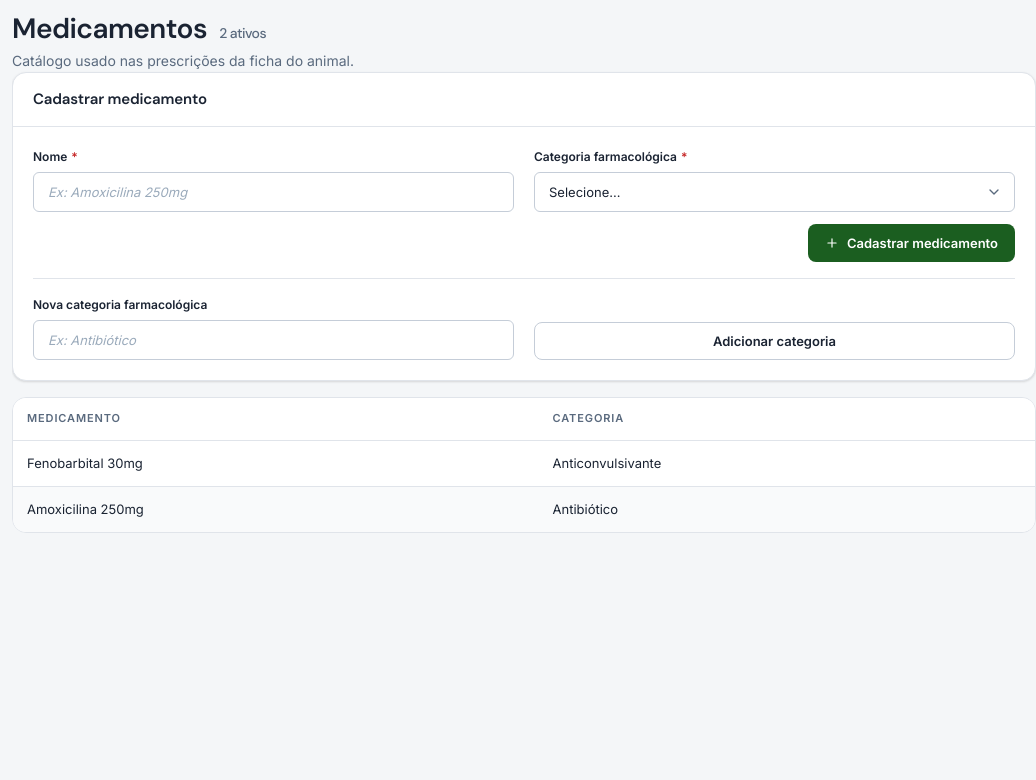
Test: Medicamentos › categoria repetida mostra o motivo do 409
This screenshot has width=1036, height=780.
In the field labelled "Nova categoria farmacológica": [274, 340] box [33,320,514,360], type "antibiótico"
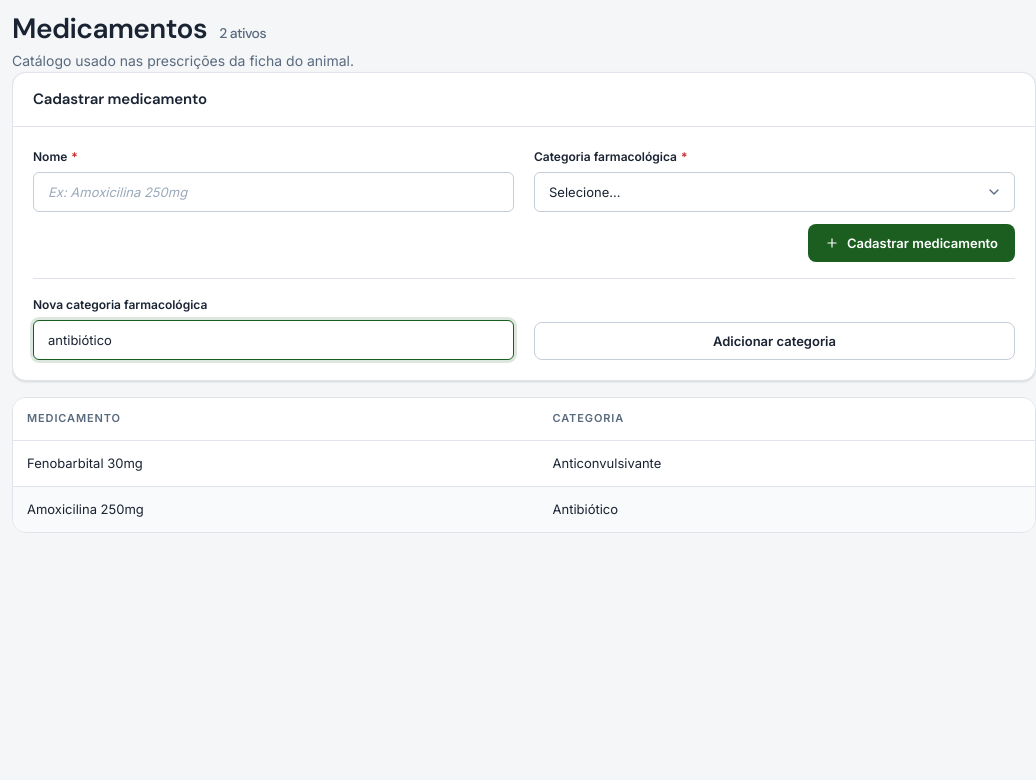
Click the button "Adicionar categoria": [774, 341] box [534,322,1015,360]
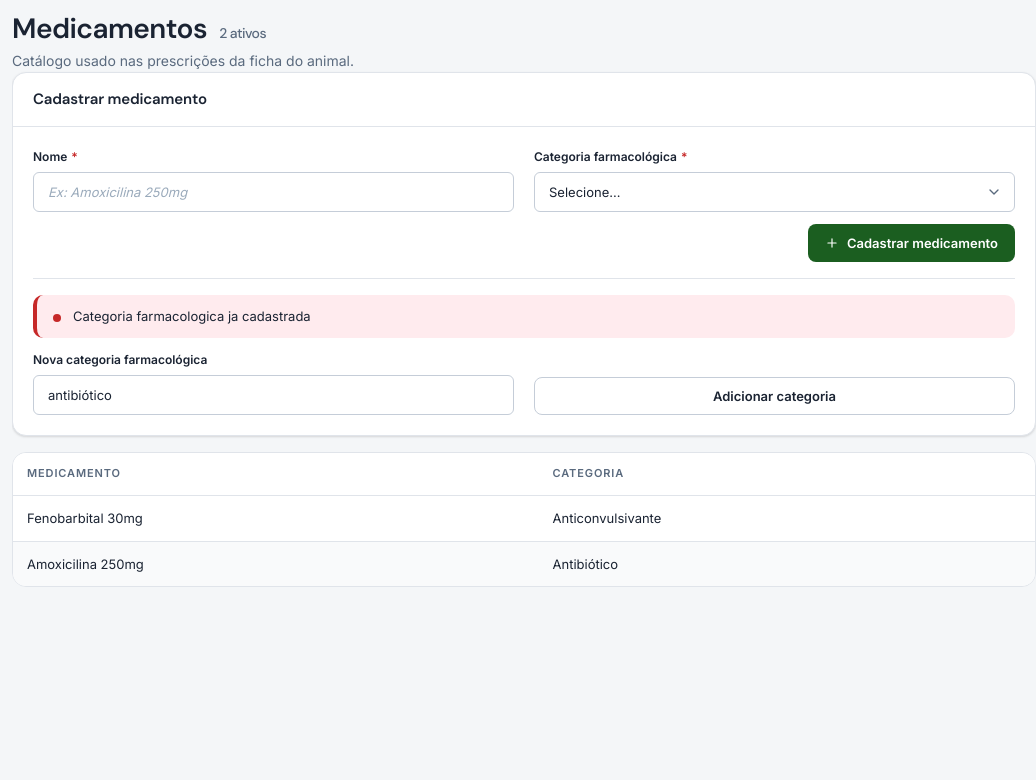
Now the text "Categoria farmacologica ja cadastrada" is shown, box [73,308,311,324]
